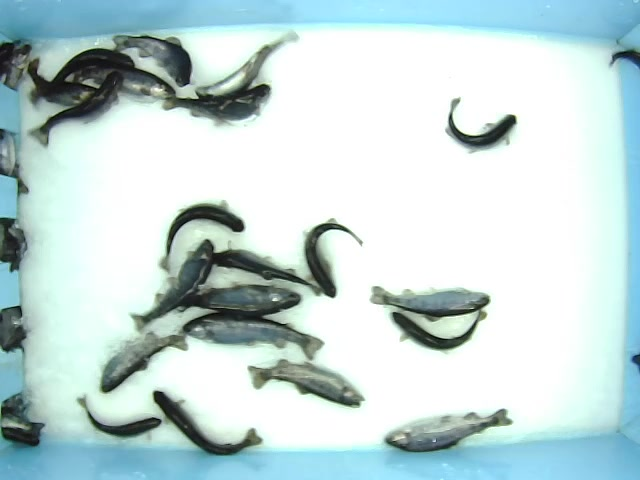fish: (129, 236, 214, 334), (151, 388, 265, 457), (27, 70, 125, 147), (195, 30, 300, 101), (206, 238, 325, 298), (181, 313, 325, 362), (157, 198, 247, 276), (28, 47, 136, 106), (246, 358, 368, 410), (383, 407, 514, 454), (100, 331, 189, 394), (301, 217, 364, 305), (154, 282, 303, 317), (368, 284, 491, 323), (389, 307, 491, 354), (162, 84, 273, 127), (444, 96, 518, 155), (111, 33, 192, 85), (24, 55, 105, 107), (75, 393, 163, 440), (71, 64, 176, 102)
